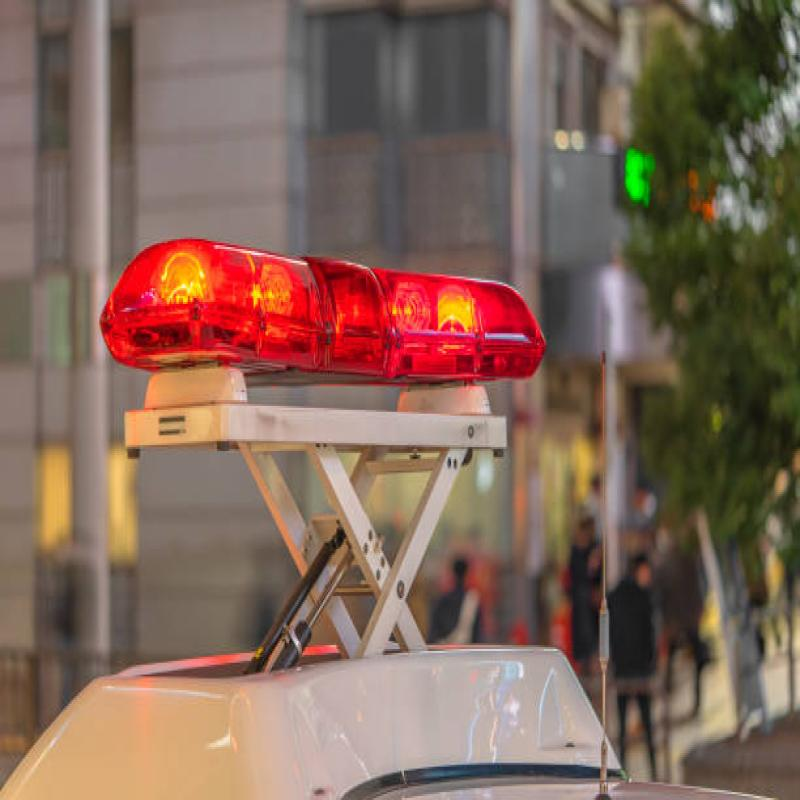AmbulanceSiren: (111, 208, 572, 421)
